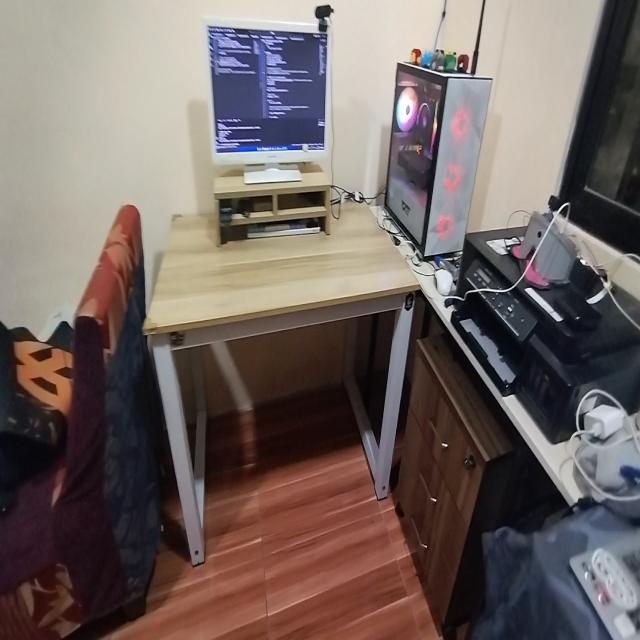table: (150, 189, 417, 528)
